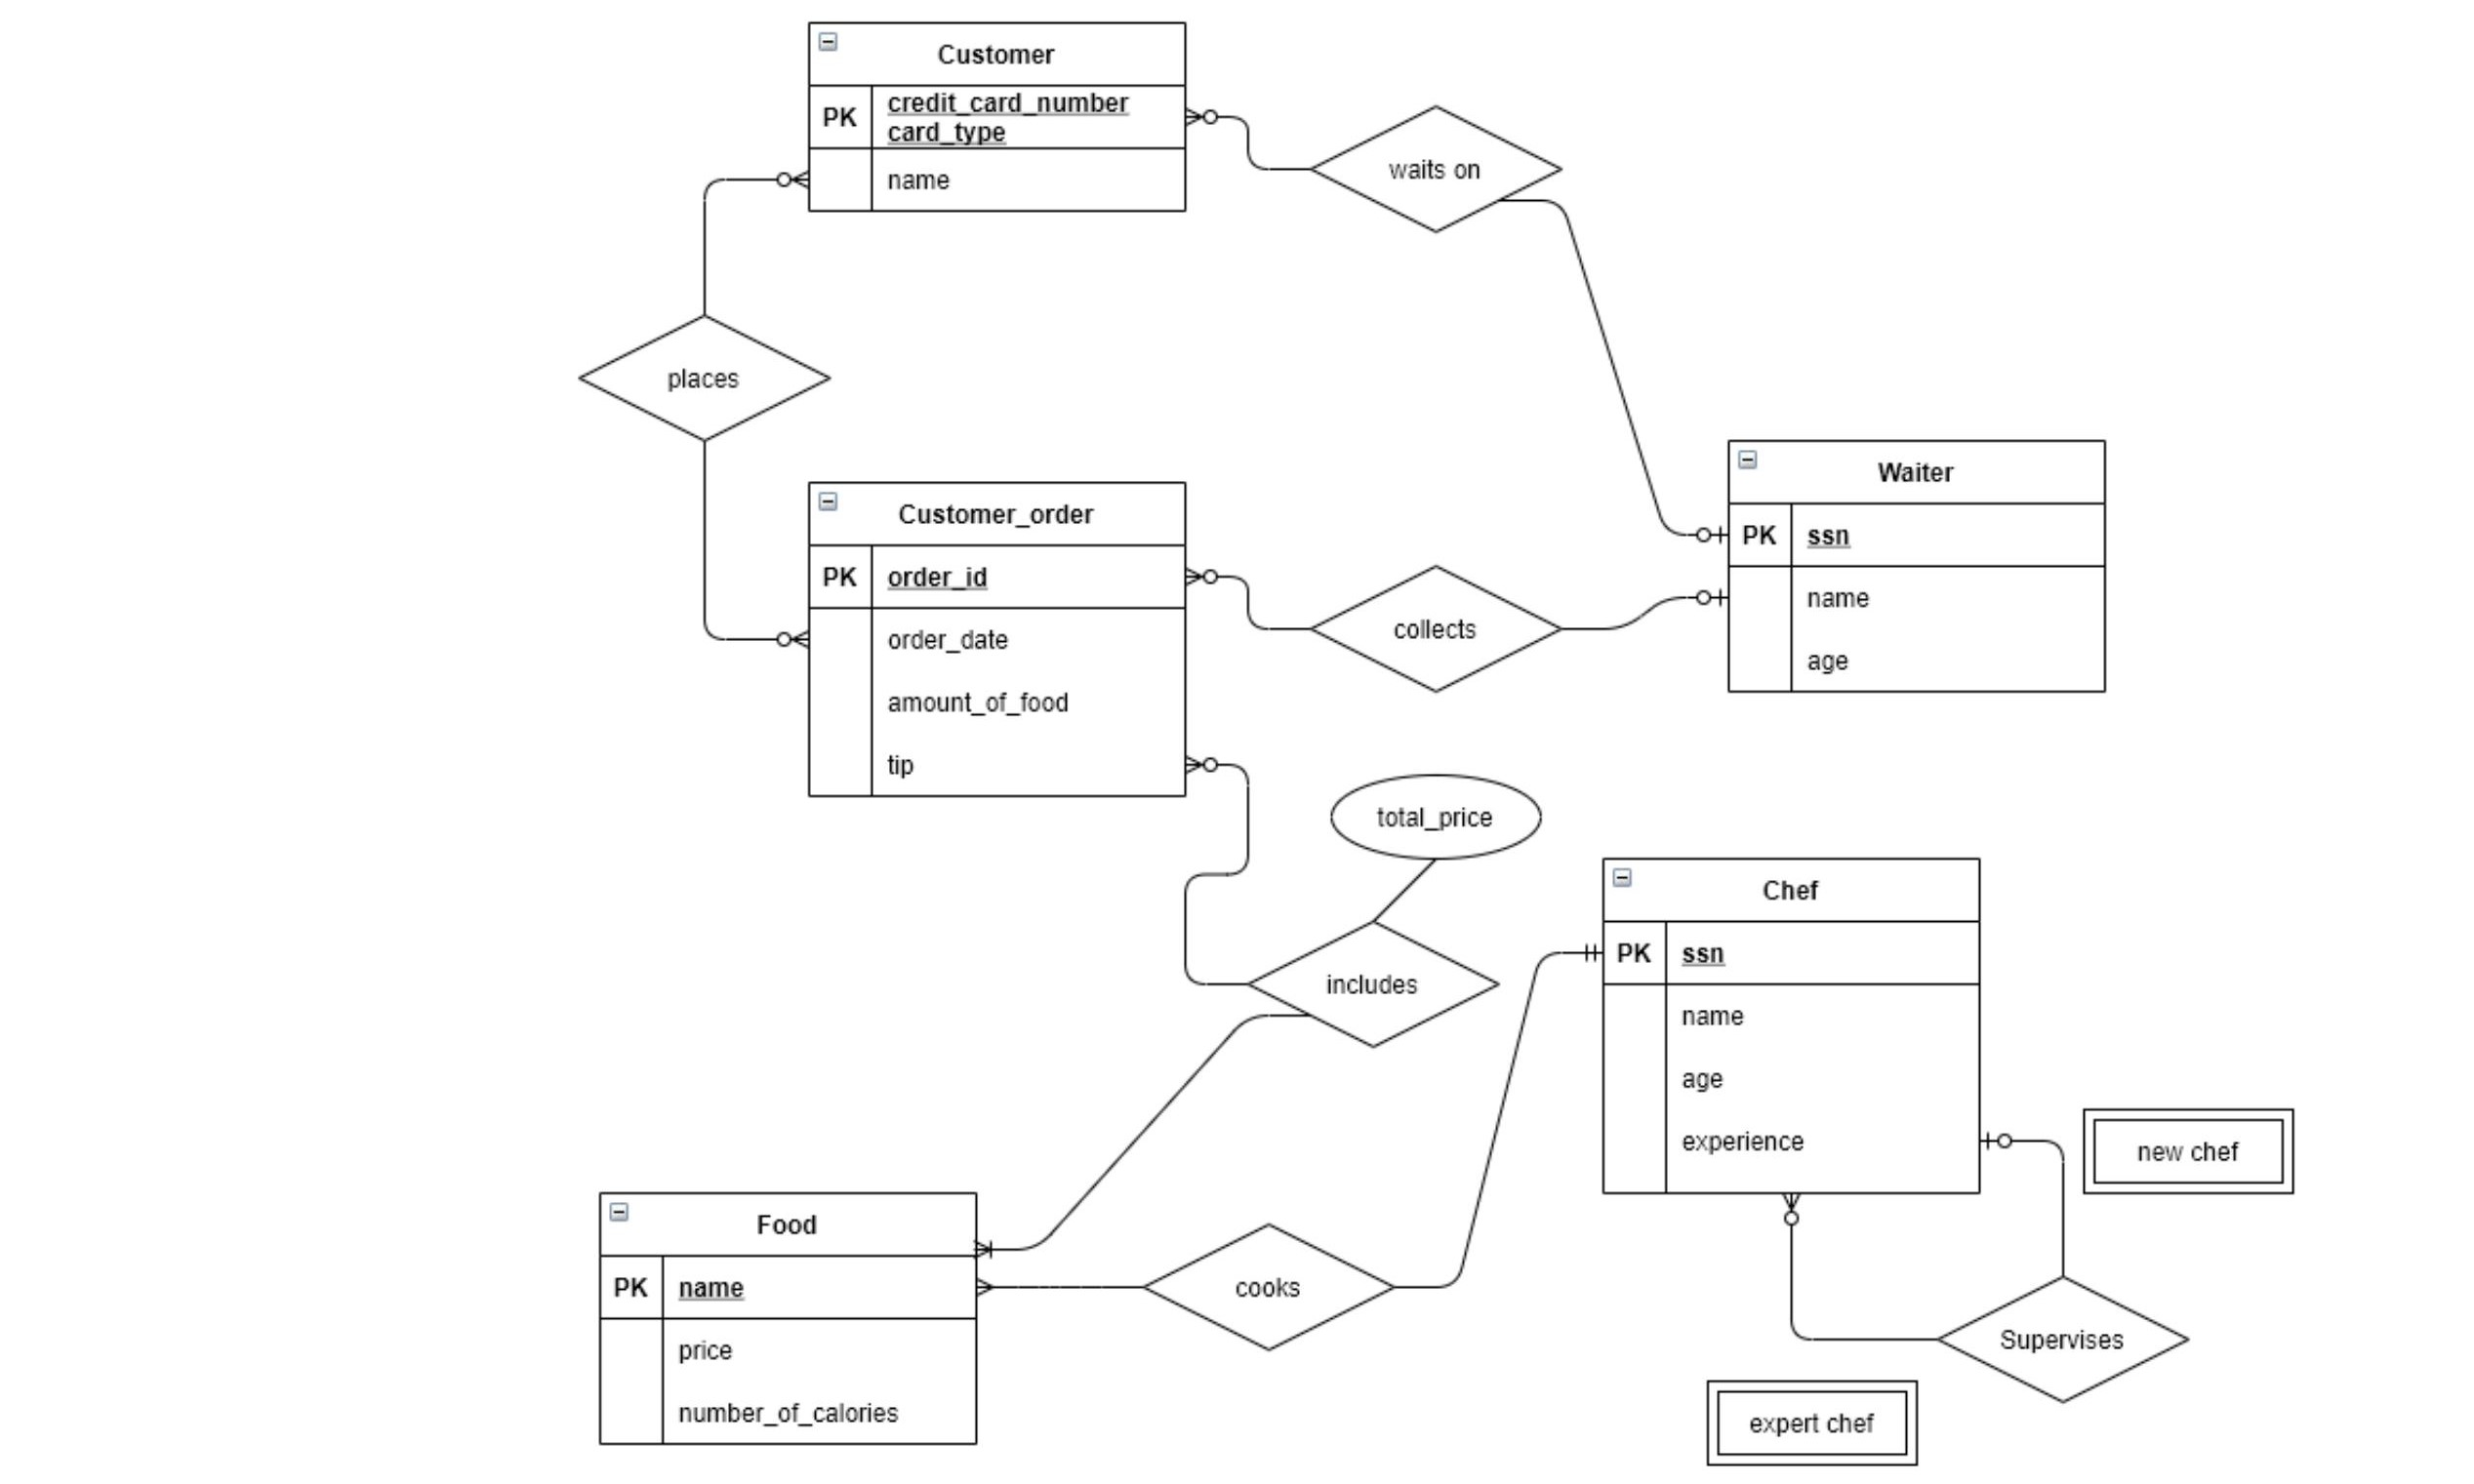Attribute: (1329, 776, 1541, 857)
Entity: (1596, 848, 1986, 1203), (802, 475, 1196, 804), (1719, 435, 2115, 700), (594, 1191, 984, 1452), (802, 14, 1193, 214)
Relationship: (1940, 1267, 2202, 1404), (574, 311, 838, 440), (1248, 917, 1504, 1048), (1143, 1221, 1394, 1353), (1313, 564, 1569, 689), (1329, 102, 1566, 237)
